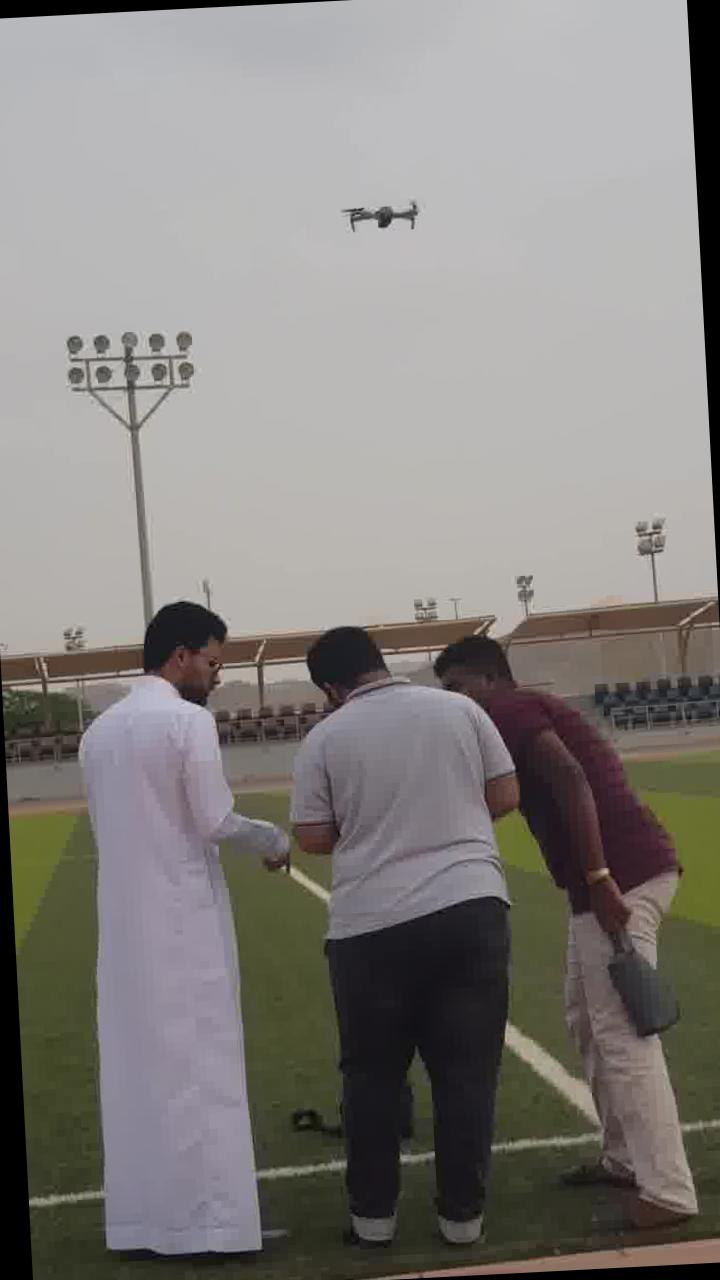drone: (325, 195, 427, 239)
